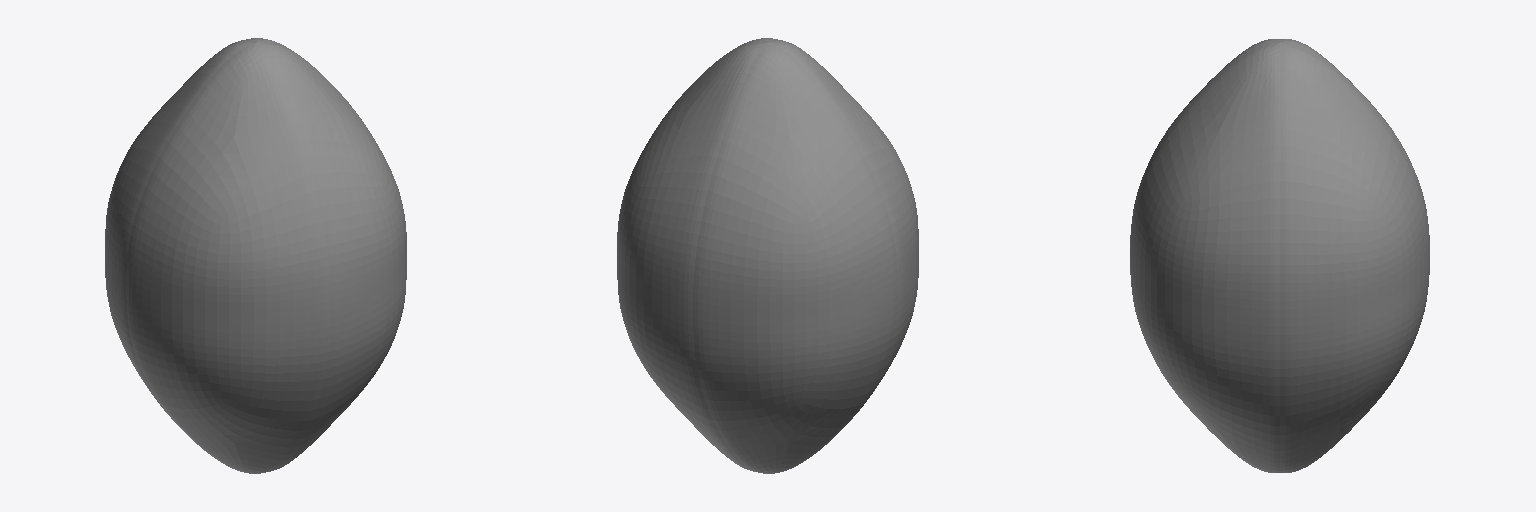
The model's file is 10544_football_v2_L3.obj.
The picture shows the model from 3 angles: view 1: azimuth 30°, elevation 25°; view 2: azimuth 150°, elevation 25°; view 3: azimuth 270°, elevation 25°; orthographic projection.
Visible parts, largest first — view 1: Box01; view 2: Box01; view 3: Box01.
Boxes of the visible parts, <box> form: Box01: <box>105,38,406,473</box>; Box01: <box>617,38,918,473</box>; Box01: <box>1130,39,1429,472</box>.
Size of the model in its own units: 17.16 by 26.95 by 17.16.